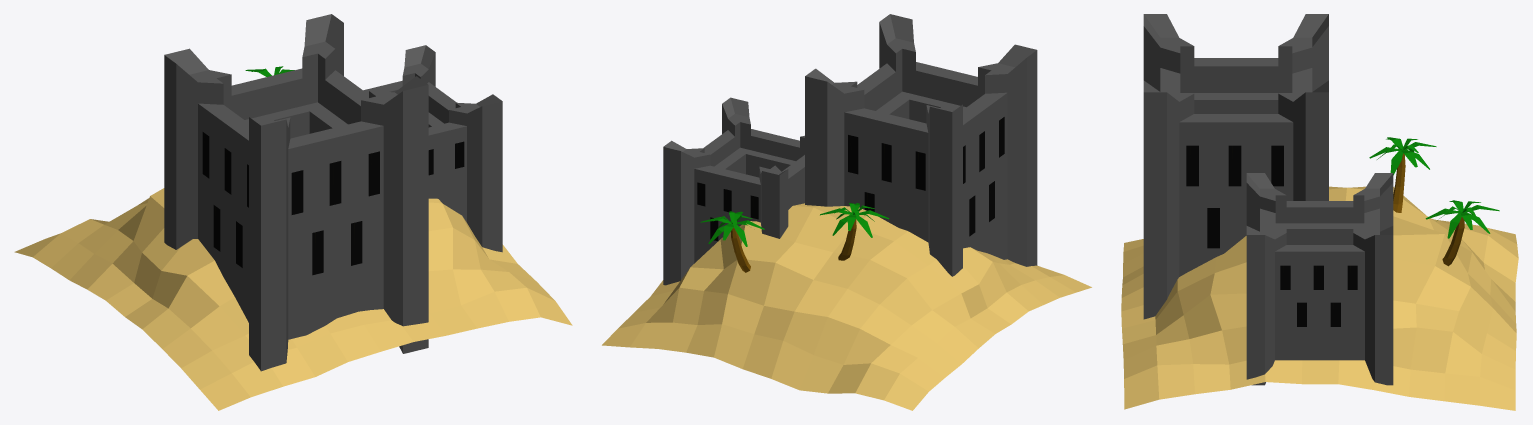
File: FortIsland fbx.fbx
3 renders of one model, left to right at view 1: azimuth 30°, elevation 25°; view 2: azimuth 150°, elevation 25°; view 3: azimuth 270°, elevation 25°, orthographic. The views are drawn at different scales.
Visible parts, largest first — view 1: Fort.001, Suelo, Fort, Window.022, Window.023, Window.025, Window.021, Window.024; view 2: Suelo, Fort.001, Fort, Hojas.001, Hojas; view 3: Suelo, Fort.001, Fort, Hojas, Hojas.001, Window.014, Window.016, Window.012, Window.015, Tronco.001, Tronco.
Boxes of the visible parts, x1,y1,x2,y2 form: Fort.001: (164, 14, 428, 371); Suelo: (14, 188, 572, 410); Fort: (363, 45, 502, 252); Window.022: (329, 161, 341, 205); Window.023: (291, 170, 303, 214); Window.025: (312, 230, 323, 275); Window.021: (368, 151, 379, 196); Window.024: (351, 221, 362, 265); Suelo: (602, 203, 1091, 410); Fort.001: (805, 14, 1037, 276); Fort: (663, 97, 804, 285); Hojas.001: (820, 203, 889, 237); Hojas: (700, 211, 764, 246); Suelo: (1121, 186, 1518, 410); Fort.001: (1143, 14, 1328, 319); Fort: (1246, 173, 1393, 385); Hojas: (1425, 200, 1499, 238); Hojas.001: (1369, 137, 1436, 175); Window.014: (1228, 145, 1241, 186); Window.016: (1186, 145, 1198, 186); Window.012: (1271, 145, 1283, 186); Window.015: (1207, 208, 1219, 248); Tronco.001: (1393, 153, 1405, 212); Tronco: (1442, 217, 1464, 266).
Size of the model in its own units: 202 by 144 by 203.
